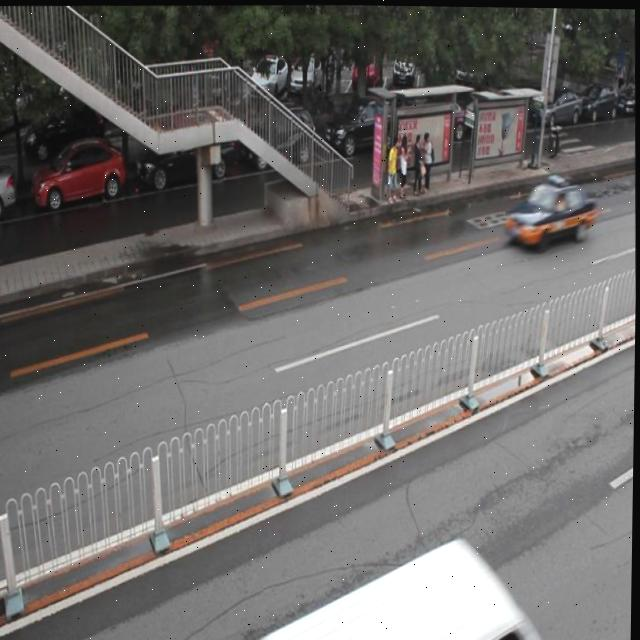car: (136, 107, 236, 185), (30, 137, 125, 211), (504, 169, 594, 247), (322, 92, 401, 155), (245, 101, 315, 169), (0, 157, 16, 224)
truck: (242, 536, 550, 640)
